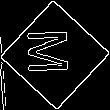M_E: (29, 31, 81, 79)
